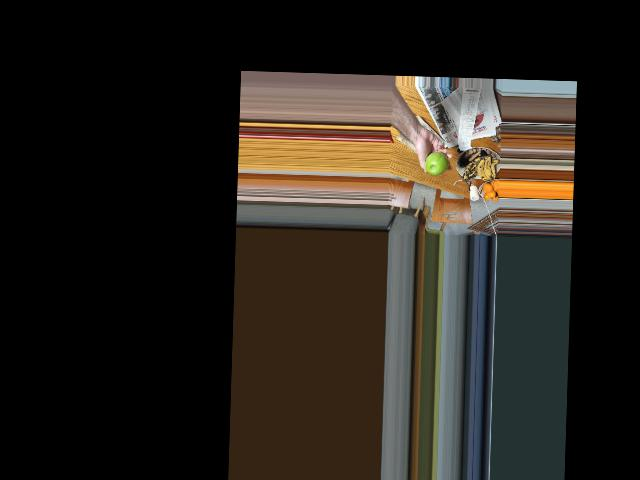apple: (424, 151, 448, 177)
